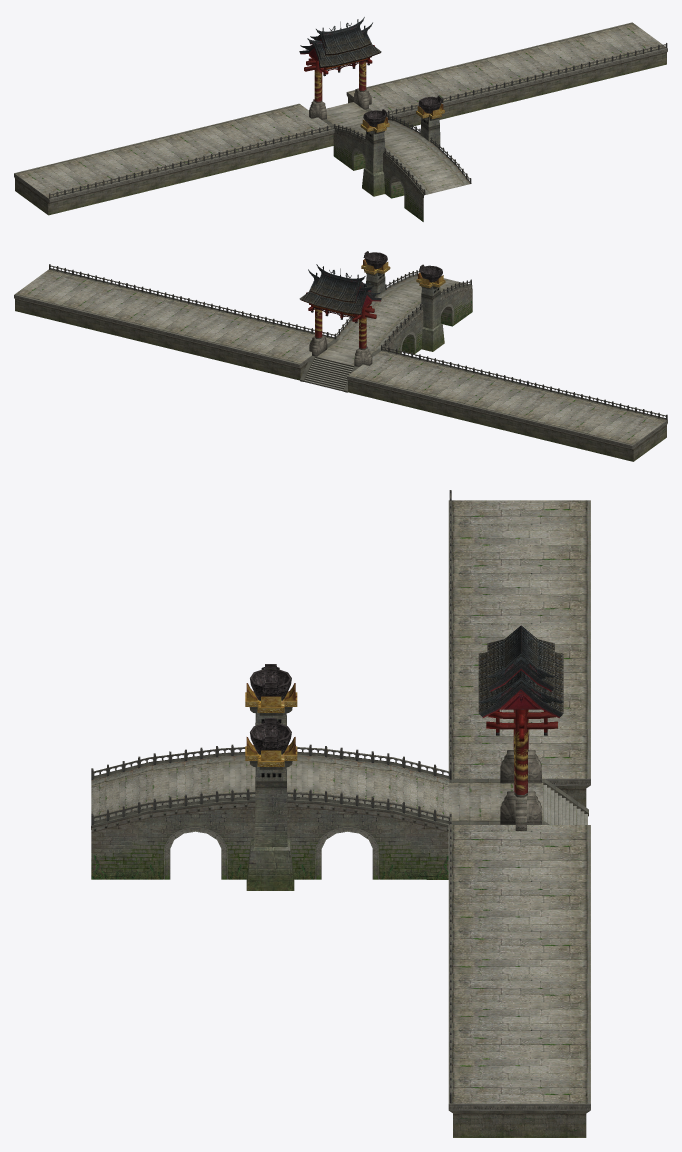
File: c_jin_ent01.glb
The picture shows the model from 3 angles, top to bottom: view 1: azimuth 30°, elevation 25°; view 2: azimuth 150°, elevation 25°; view 3: azimuth 270°, elevation 25°; orthographic projection. The views are drawn at different scales.
Parts seen in each view (by area): view 1: C_jin_Ent01_wall02, C_jin_Ent01_wall01, C_jin_Ent01_wall03, C_jin_Ent01_wall05, C_jin_Ent01_door01, C_jin_Ent01_door02, C_jin_Ent01_wall06, C_jin_Ent01_door03; view 2: C_jin_Ent01_wall02, C_jin_Ent01_wall01, C_jin_Ent01_wall03, C_jin_Ent01_wall05, C_jin_Ent01_door01, C_jin_Ent01_door02, C_jin_Ent01_wall06, C_jin_Ent01_door03; view 3: C_jin_Ent01_wall02, C_jin_Ent01_wall01, C_jin_Ent01_wall03, C_jin_Ent01_door02, C_jin_Ent01_door01, C_jin_Ent01_wall05, C_jin_Ent01_wall06, C_jin_Ent01_door03.
Boxes of the visible parts, bbox=[...] form: C_jin_Ent01_wall02: bbox=[14, 22, 667, 215]; C_jin_Ent01_wall01: bbox=[333, 95, 444, 221]; C_jin_Ent01_wall03: bbox=[50, 44, 665, 194]; C_jin_Ent01_wall05: bbox=[50, 44, 665, 198]; C_jin_Ent01_door01: bbox=[314, 27, 381, 67]; C_jin_Ent01_door02: bbox=[299, 36, 374, 119]; C_jin_Ent01_wall06: bbox=[49, 43, 667, 198]; C_jin_Ent01_door03: bbox=[300, 17, 372, 70]; C_jin_Ent01_wall02: bbox=[14, 269, 667, 461]; C_jin_Ent01_wall01: bbox=[361, 251, 472, 353]; C_jin_Ent01_wall03: bbox=[50, 265, 665, 415]; C_jin_Ent01_wall05: bbox=[50, 266, 665, 419]; C_jin_Ent01_door01: bbox=[299, 274, 370, 315]; C_jin_Ent01_door02: bbox=[306, 283, 381, 366]; C_jin_Ent01_wall06: bbox=[49, 264, 667, 419]; C_jin_Ent01_door03: bbox=[308, 264, 380, 318]; C_jin_Ent01_wall02: bbox=[448, 500, 590, 1137]; C_jin_Ent01_wall01: bbox=[91, 664, 448, 890]; C_jin_Ent01_wall03: bbox=[91, 493, 451, 1092]; C_jin_Ent01_door02: bbox=[479, 663, 563, 830]; C_jin_Ent01_door01: bbox=[478, 625, 563, 713]; C_jin_Ent01_wall05: bbox=[93, 748, 449, 824]; C_jin_Ent01_wall06: bbox=[91, 490, 451, 1103]; C_jin_Ent01_door03: bbox=[478, 653, 563, 703].
Bounding box in the file's own units: 196 × 35.51 × 68.42.
9 materials, 9 textured.
